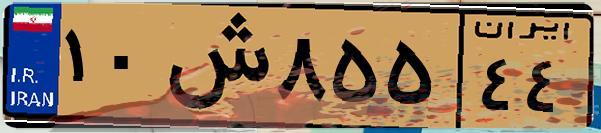0: (110, 28, 158, 98)
1: (57, 26, 110, 100)
4: (475, 38, 525, 113), (525, 38, 570, 115)
5: (385, 28, 445, 110), (330, 28, 385, 110)
8: (270, 28, 330, 110)
ش: (158, 12, 270, 120)
